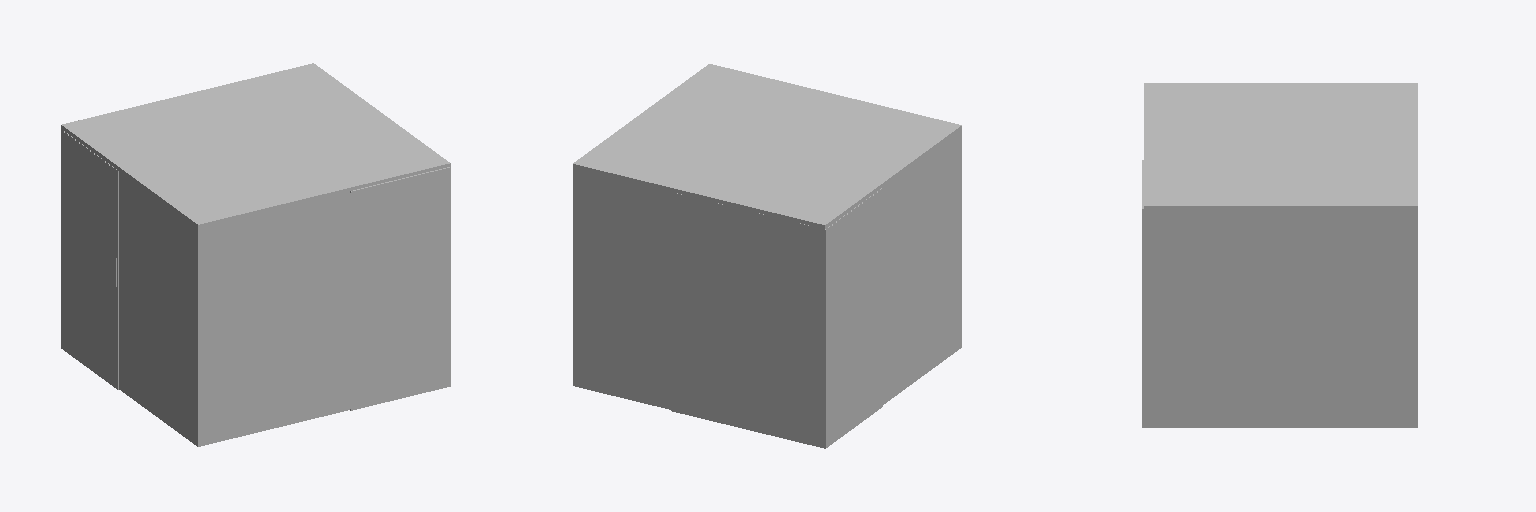
3 renders of one model, left to right at view 1: azimuth 30°, elevation 25°; view 2: azimuth 150°, elevation 25°; view 3: azimuth 270°, elevation 25°, orthographic.
Visible parts, largest first — view 1: HITBOX_MODEL_Cube.003, HITBOX_OBJECT_Cube.001, OBJECT_Cube, HITBOX_OBJECT.001_Cube.002; view 2: HITBOX_MODEL_Cube.003, HITBOX_OBJECT.001_Cube.002, OBJECT_Cube; view 3: HITBOX_MODEL_Cube.003, HITBOX_OBJECT_Cube.001.
Boxes of the visible parts, <box> form: HITBOX_MODEL_Cube.003: <box>61,63,450,446</box>; HITBOX_OBJECT_Cube.001: <box>350,167,450,410</box>; OBJECT_Cube: <box>63,132,350,408</box>; HITBOX_OBJECT.001_Cube.002: <box>61,129,118,389</box>; HITBOX_MODEL_Cube.003: <box>573,64,961,409</box>; HITBOX_OBJECT.001_Cube.002: <box>671,188,882,448</box>; OBJECT_Cube: <box>828,190,881,444</box>; HITBOX_MODEL_Cube.003: <box>1144,83,1417,427</box>; HITBOX_OBJECT_Cube.001: <box>1142,160,1143,427</box>.
Bounding box in the file's own units: 5.08 × 4.28 × 4.79.